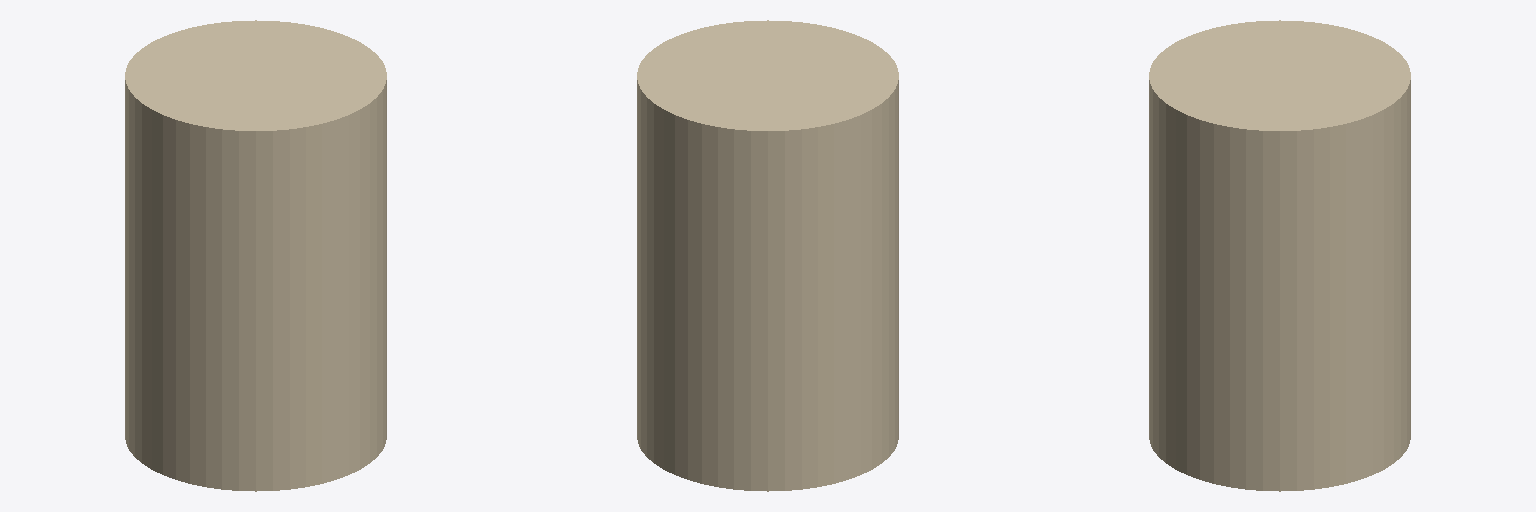
URDF robot description (fw_can_m200):
<?xml version="1.0"?>
<!-- A3 force-window asset, generated by FoundationTouch tools/force_window/make_fw_assets.py -->
<robot name="fw_can_m200">
  <material name="c"><color rgba="0.85 0.80 0.70 1.0"/></material>
  <link name="object">
    <visual><origin xyz="0 0 0" rpy="0 0 0"/><geometry><mesh filename="fw_can_m200.obj" scale="1 1 1"/></geometry><material name="c"/></visual>
    <collision><origin xyz="0 0 0" rpy="0 0 0"/><geometry><mesh filename="fw_can_m200.obj" scale="1 1 1"/></geometry></collision>
    <inertial><mass value="0.200000"/><origin xyz="0 0 0" rpy="0 0 0"/><inertia ixx="2.209614e-04" ixy="0" ixz="0" iyy="2.209614e-04" iyz="0" izz="1.085894e-04"/></inertial>
  </link>
</robot>

--- Render facts (derived) ---
Views: 3 orthographic renders of the robot side by side, from view 1: azimuth 30°, elevation 25°; view 2: azimuth 150°, elevation 25°; view 3: azimuth 270°, elevation 25°.
Model fw_can_m200 with 1 links and 0 joints (none), rooted at object, posed every joint at zero.
Links seen in each view (by area): view 1: object; view 2: object; view 3: object.
Link boxes in pixels (x1,y1,x2,y2): object: (125, 20, 386, 491); object: (637, 20, 898, 491); object: (1149, 20, 1410, 491).
Bounding box of the posed robot: 0.066 × 0.066 × 0.1 m (x, y, z).
Meshes: 1 distinct files referenced, 1 mesh visuals loaded (1 OBJ).
